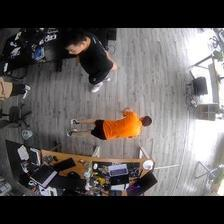fall: (65, 106, 153, 143)
normal: (63, 31, 116, 93)
